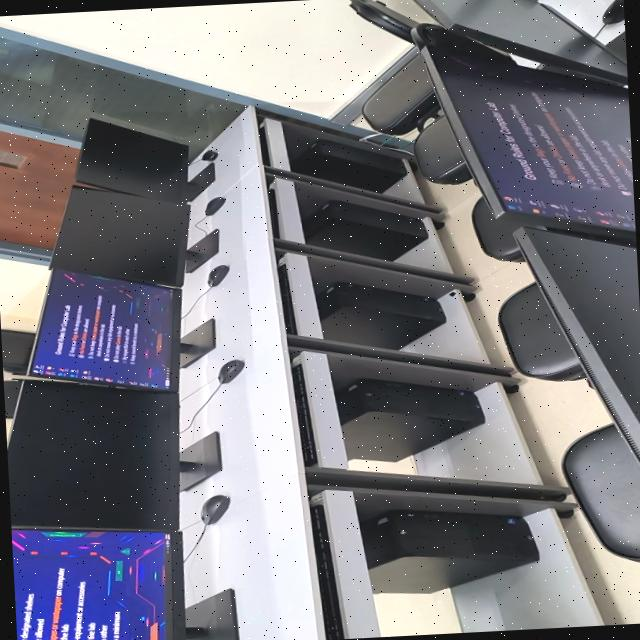Chair: (348, 0, 440, 136), (561, 424, 640, 562), (497, 283, 585, 382), (413, 116, 472, 185), (471, 197, 524, 262), (0, 330, 34, 374), (3, 380, 22, 419)
Cpu: (361, 510, 538, 594), (333, 374, 483, 462), (317, 283, 443, 350), (303, 201, 427, 261), (290, 140, 406, 193)
Keyboard: (310, 505, 344, 640), (292, 364, 316, 466), (277, 263, 296, 335), (267, 189, 278, 238), (258, 126, 270, 166)
Monitor: (424, 46, 636, 233), (6, 380, 220, 531), (513, 228, 640, 469), (11, 530, 238, 640), (20, 270, 214, 391), (413, 0, 628, 86), (50, 186, 217, 288), (74, 119, 213, 203)
Mouse: (200, 495, 229, 525), (217, 360, 243, 384), (602, 0, 625, 25), (206, 266, 228, 288), (204, 198, 224, 216), (198, 150, 217, 162)
